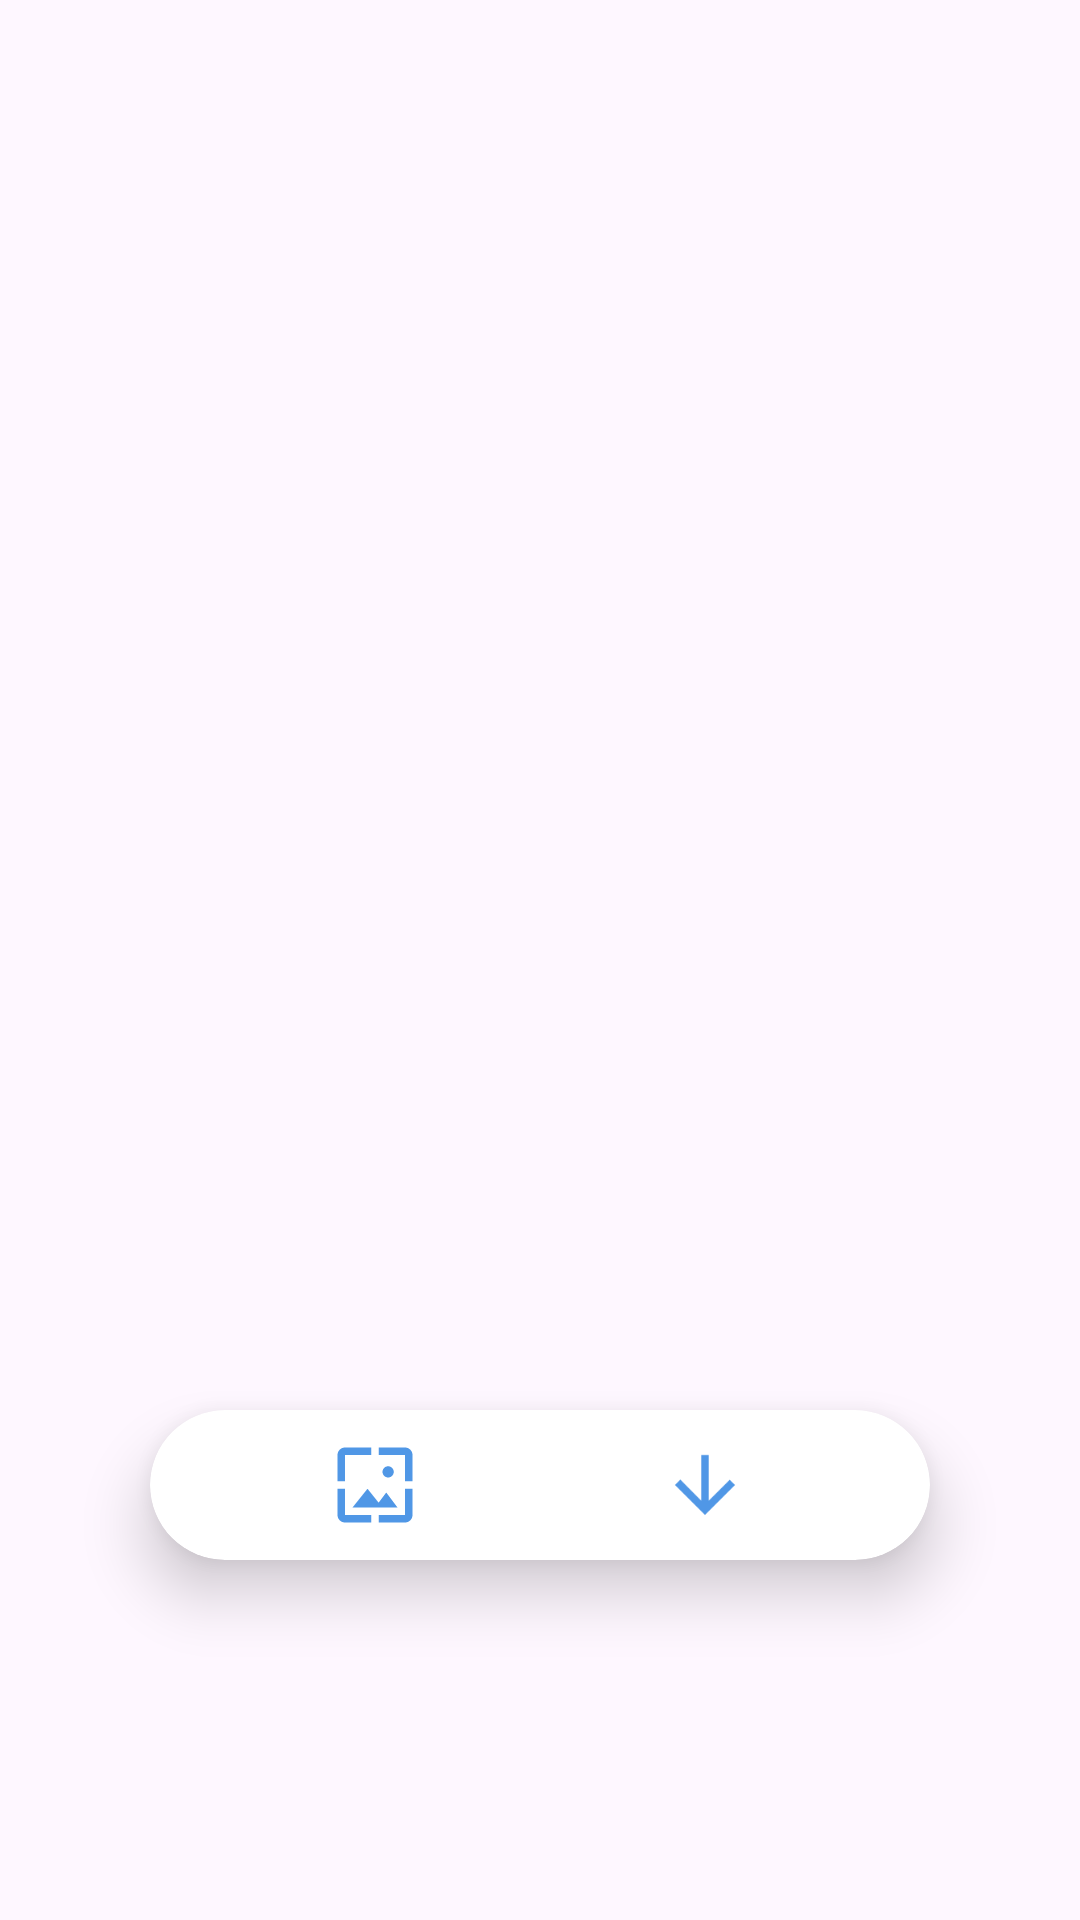

Where icons sit on this 1080x1920 app screen, as {"x1": x1, "y1": y1, "x2": x2, "y2": y2}:
arrow downward: {"x1": 675, "y1": 1455, "x2": 735, "y2": 1515}
